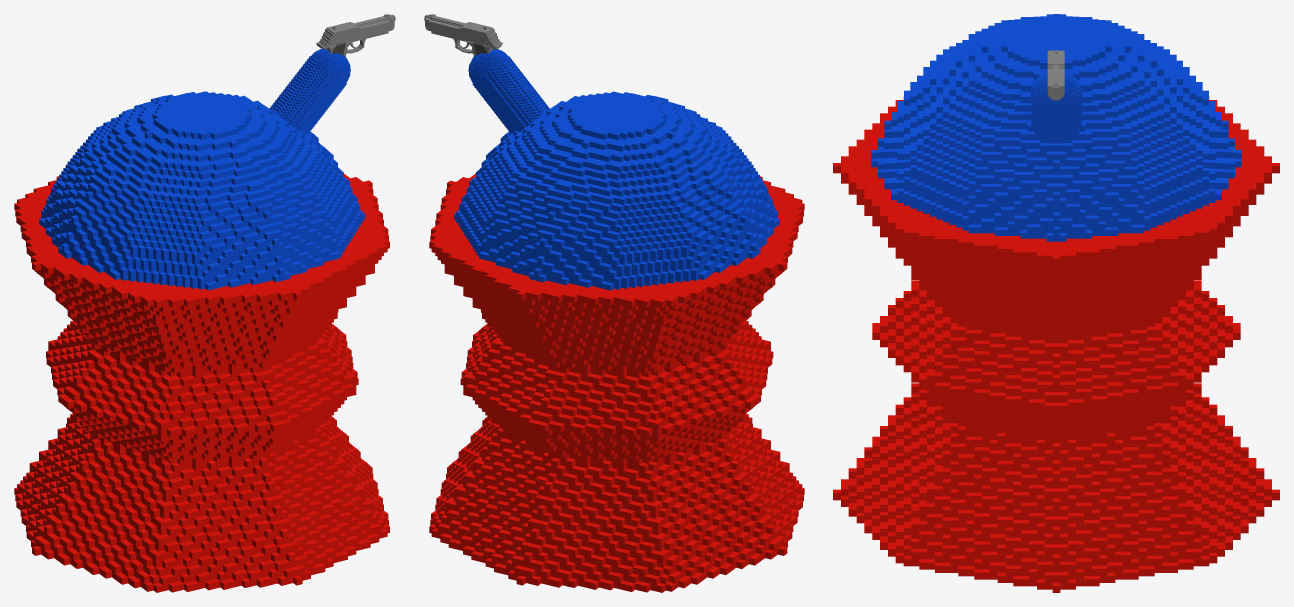
The model's file is turrent1_blocky.fbx.
3 renders of one model, left to right at view 1: azimuth 30°, elevation 25°; view 2: azimuth 150°, elevation 25°; view 3: azimuth 270°, elevation 25°, orthographic. The views are drawn at different scales.
Visible parts, largest first — view 1: A_turrent.podium, A_turrent.head.001, A_turrent.arm, A_pistol.slide, A_turrent.arm2, A_pistol.handle; view 2: A_turrent.podium, A_turrent.head.001, A_turrent.arm, A_pistol.slide, A_turrent.arm2, A_pistol.handle; view 3: A_turrent.podium, A_turrent.head.001, A_turrent.arm2, A_turrent.arm, A_pistol.slide.
Boxes of the visible parts, x1=… form: A_turrent.podium: x1=14, y1=173, x2=389, y2=592; A_turrent.head.001: x1=39, y1=91, x2=365, y2=290; A_turrent.arm: x1=269, y1=56, x2=346, y2=134; A_pistol.slide: x1=321, y1=14, x2=394, y2=42; A_turrent.arm2: x1=308, y1=48, x2=350, y2=84; A_pistol.handle: x1=316, y1=27, x2=394, y2=56; A_turrent.podium: x1=429, y1=173, x2=804, y2=592; A_turrent.head.001: x1=454, y1=91, x2=779, y2=290; A_turrent.arm: x1=472, y1=56, x2=549, y2=133; A_pistol.slide: x1=425, y1=14, x2=497, y2=42; A_turrent.arm2: x1=468, y1=49, x2=510, y2=85; A_pistol.handle: x1=425, y1=27, x2=502, y2=56; A_turrent.podium: x1=833, y1=97, x2=1279, y2=592; A_turrent.head.001: x1=871, y1=14, x2=1241, y2=241; A_turrent.arm2: x1=1031, y1=71, x2=1081, y2=120; A_turrent.arm: x1=1031, y1=78, x2=1081, y2=143; A_pistol.slide: x1=1047, y1=50, x2=1064, y2=94.
Size of the model in its own units: 177 by 213 by 166.
